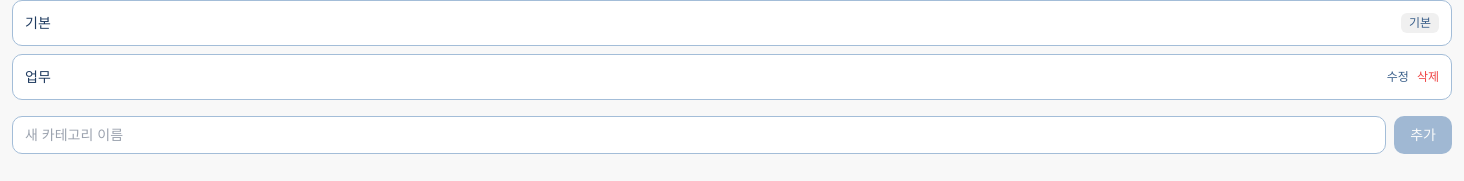
Test: CategoryList › 카테고리 수정 › 수정 버튼 클릭 시 인라인 편집 모드로 전환된다
Step 1. Click the button "수정" → click(1398, 77), box 1387,69 -> 1409,85
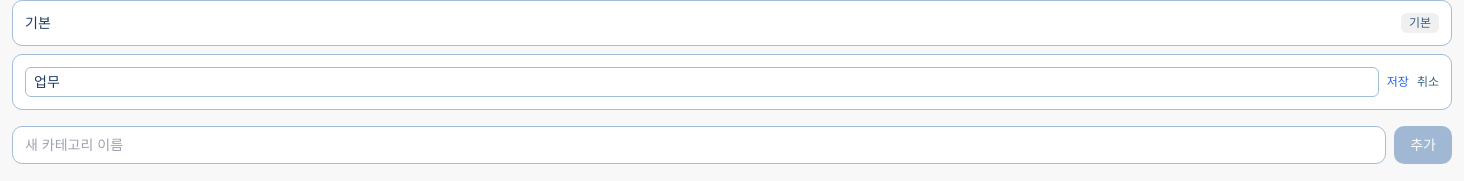
Expected: the field named "카테고리 이름 수정" is shown, 25,67 -> 1379,97
Expected: the button "저장" is shown, 1387,74 -> 1409,90
Expected: the button "취소" is shown, 1417,74 -> 1439,90
